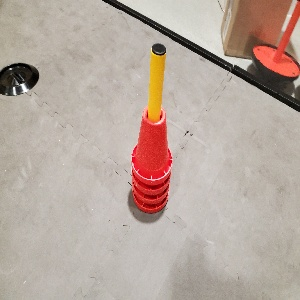Red_4: (130, 103, 172, 213)
